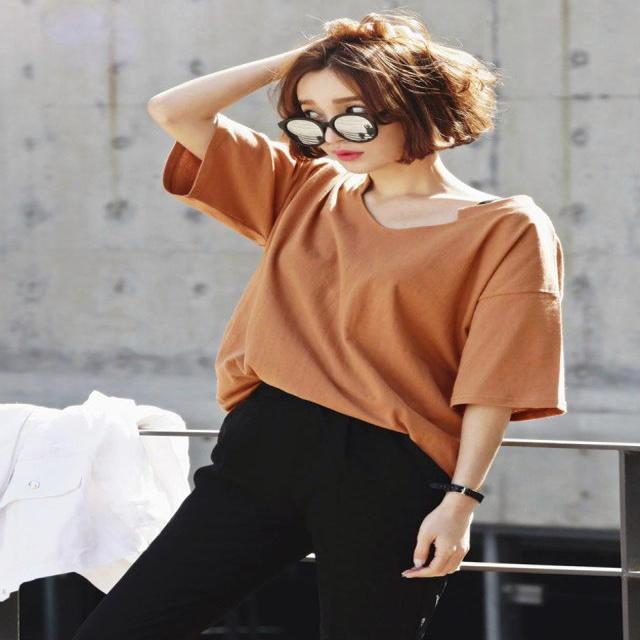short sleeve top: (162, 114, 567, 481)
trousers: (76, 381, 471, 639)
